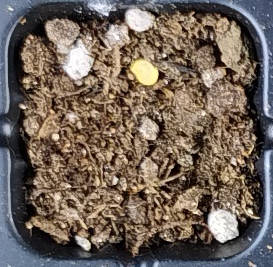pepper seed: (50, 16, 209, 101)
